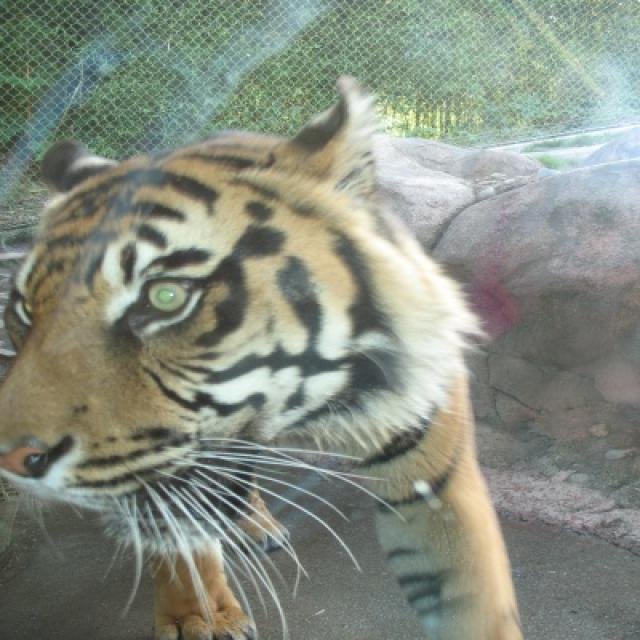Tiger: (3, 75, 528, 638)
